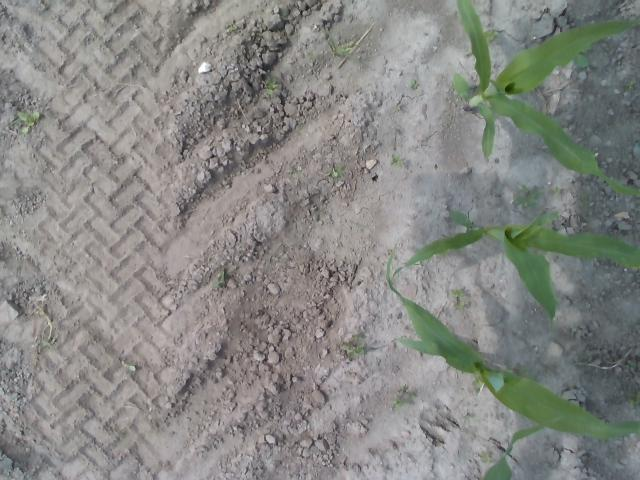Maize: (383, 243, 640, 439), (452, 0, 640, 198), (389, 210, 640, 321), (470, 419, 563, 480)
Weeds: (327, 20, 372, 69), (514, 183, 543, 209), (568, 42, 592, 68), (342, 334, 366, 359), (505, 364, 538, 382), (17, 110, 40, 134), (392, 387, 417, 409), (450, 288, 467, 308), (212, 270, 226, 288), (626, 389, 640, 406), (264, 77, 278, 94), (483, 28, 499, 42), (328, 164, 342, 178), (390, 154, 404, 166), (580, 192, 592, 204), (480, 450, 492, 462), (625, 360, 636, 372), (624, 79, 636, 89), (548, 186, 563, 194), (124, 362, 136, 372), (410, 78, 420, 89), (226, 21, 235, 33), (42, 340, 52, 348), (308, 50, 316, 58), (395, 106, 400, 112)
